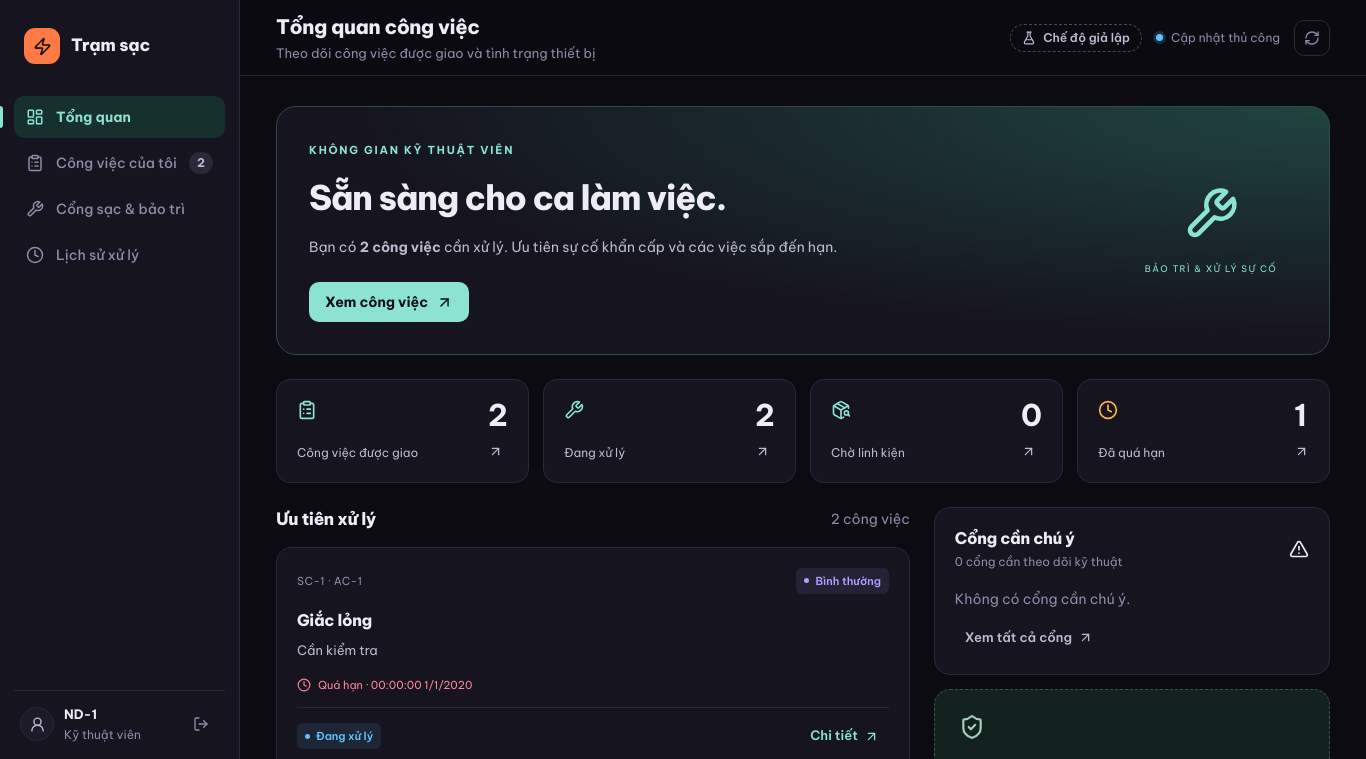
Test: Authenticated UI › filters overdue tasks from the overview shortcut
Click the button "1 Đã quá hạn" at (1204,431), box [1077,379,1330,483]
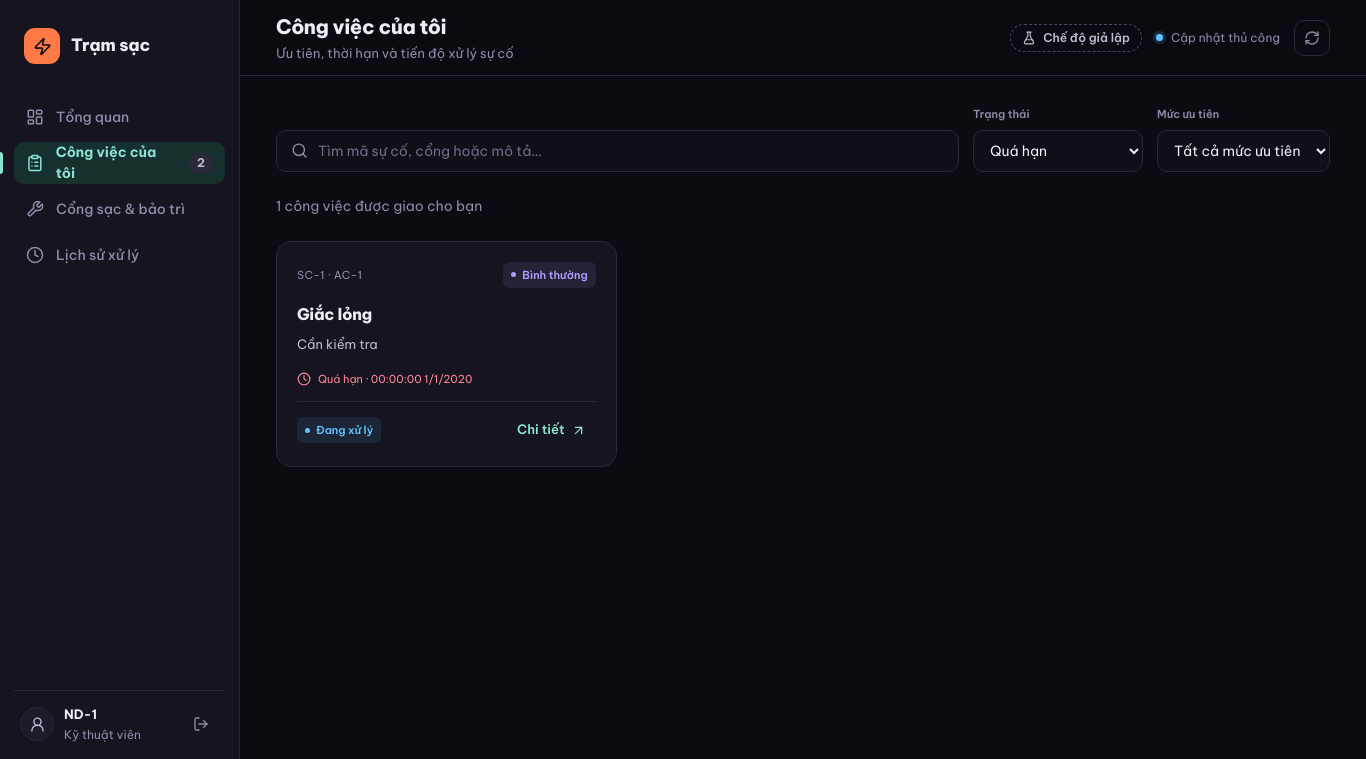
Expected: the text "SC-1 · AC-1" is shown, [297,266,362,283]
Select "Tất cả trạng thái" in the dropdown labelled "Trạng thái" at (1058,150), box [973,130,1143,172]
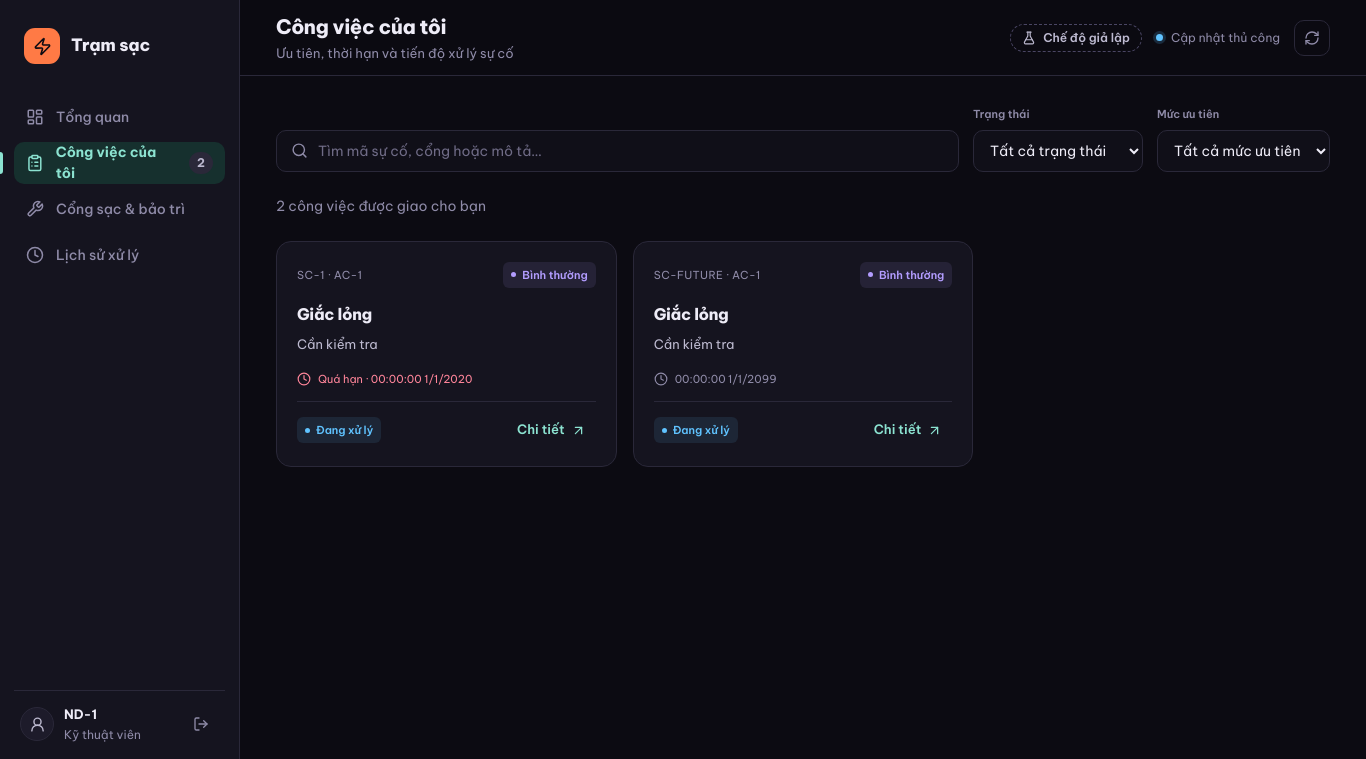
Expected: the text "SC-FUTURE · AC-1" is shown, [654,266,761,283]
